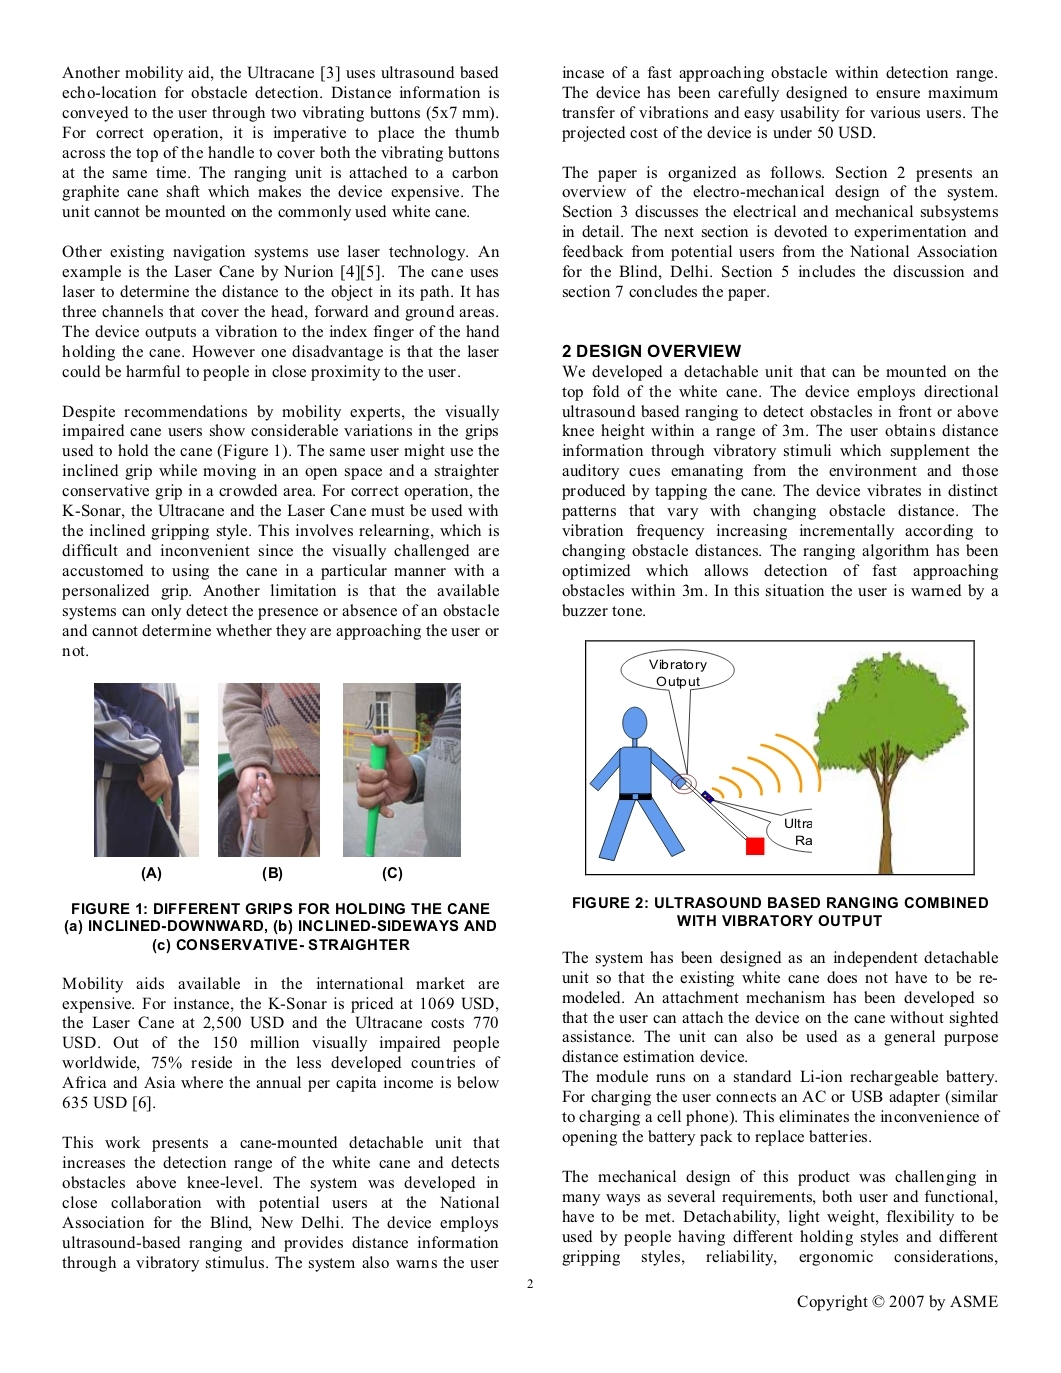figure: (585, 639, 974, 876), (333, 680, 460, 857), (210, 680, 321, 857), (93, 680, 199, 857)
